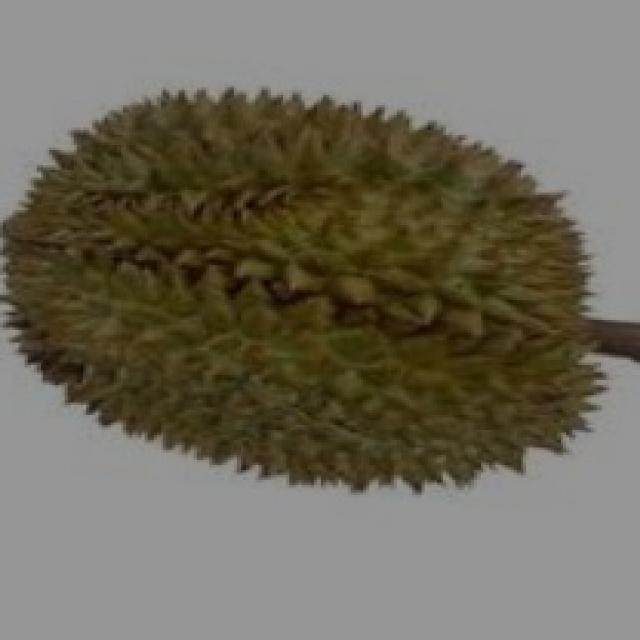fruit: (0, 60, 360, 540), (283, 125, 640, 545)
